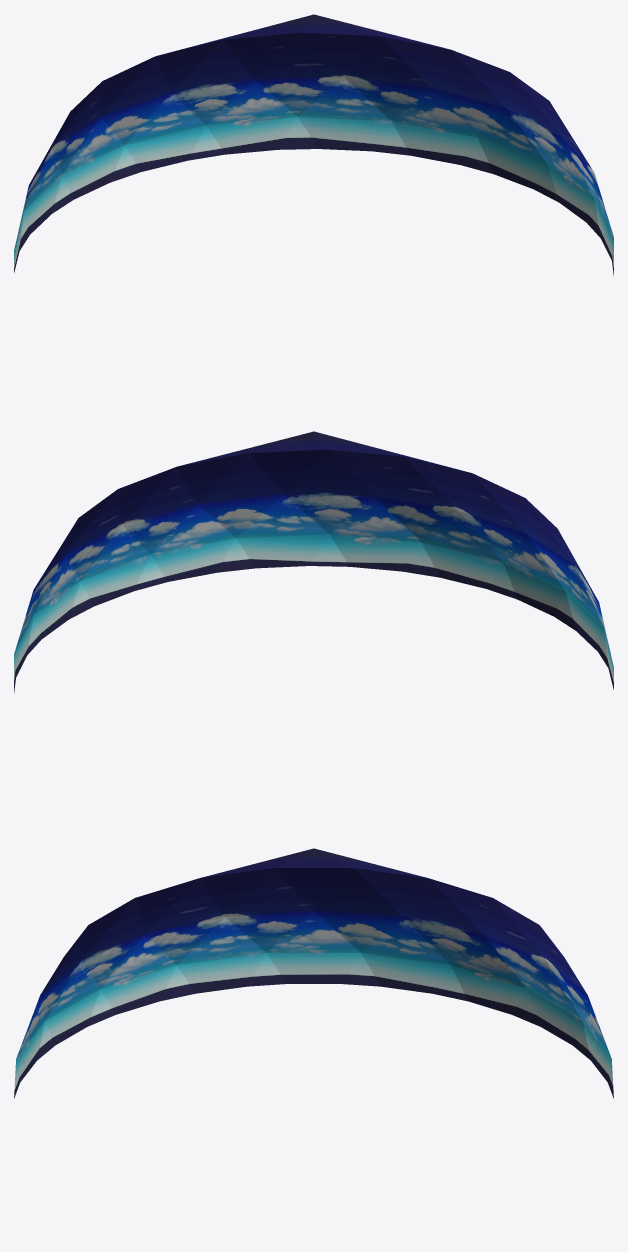
File: vrcorn.glb
The picture shows the model from 3 angles, top to bottom: view 1: azimuth 30°, elevation 25°; view 2: azimuth 150°, elevation 25°; view 3: azimuth 270°, elevation 25°; orthographic projection.
Visible parts, largest first — view 1: polygon0; view 2: polygon0; view 3: polygon0.
Part boxes in pixels (<box>): polygon0: <box>14,14,613,275</box>; polygon0: <box>14,431,613,692</box>; polygon0: <box>14,848,613,1098</box>.
Size of the model in its own units: 3995 by 1927 by 3995.
Materials: 1 (1 with a texture image).
